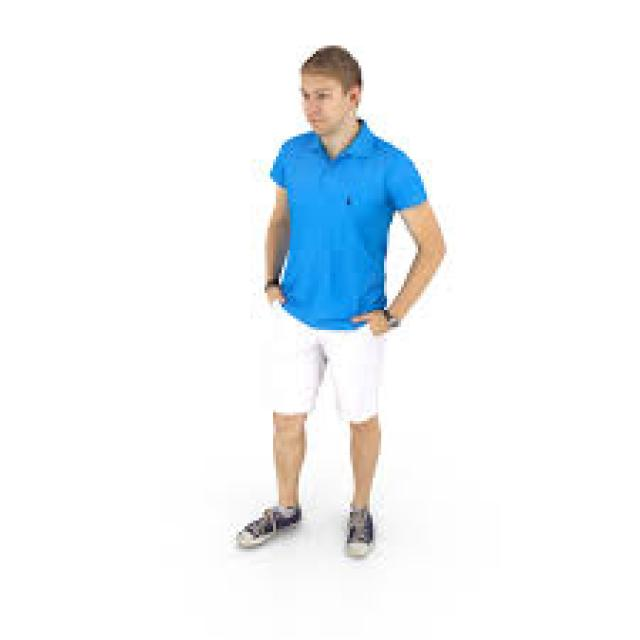adult: (236, 22, 464, 572)
